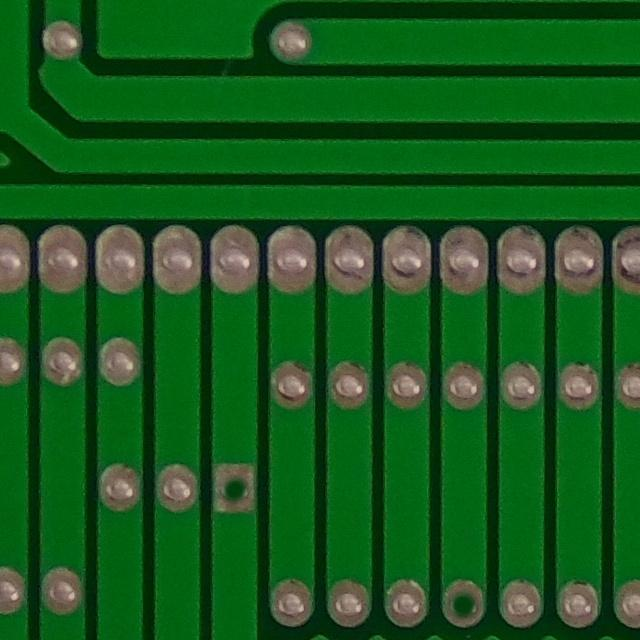missing_hole: (437, 568, 491, 635), (208, 455, 261, 521)
